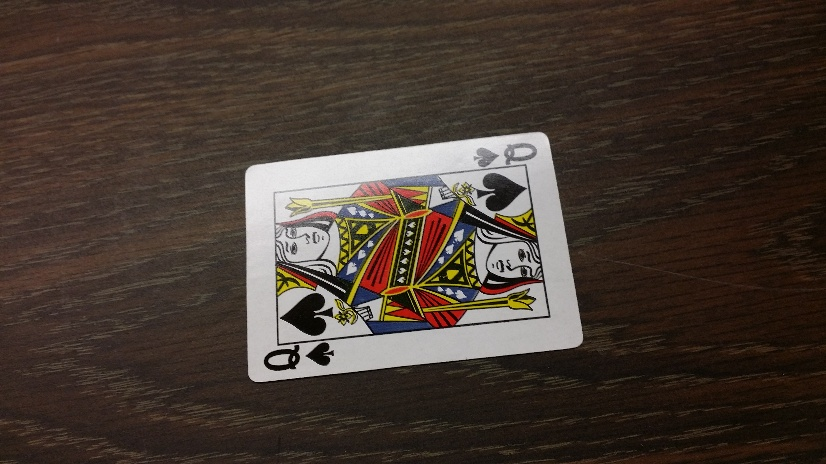Sq: (262, 342, 338, 375), (471, 140, 539, 167)
